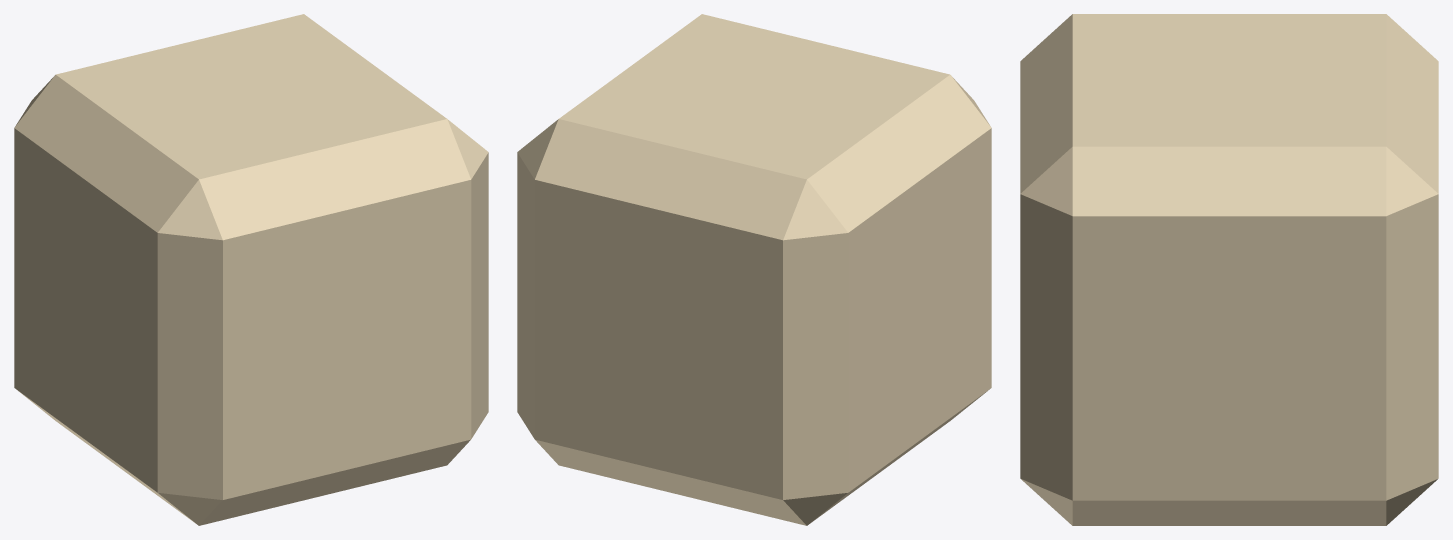
File: Cream.fbx
3 views of the same model, side by side, from view 1: azimuth 30°, elevation 25°; view 2: azimuth 150°, elevation 25°; view 3: azimuth 270°, elevation 25° (orthographic). The views are drawn at different scales.
Visible parts, largest first — view 1: Cream; view 2: Cream; view 3: Cream.
Boxes of the visible parts, bbox=[...] form: Cream: bbox=[14, 14, 488, 525]; Cream: bbox=[517, 14, 991, 525]; Cream: bbox=[1020, 14, 1438, 525].
Bounding box in the file's own units: 200 × 200 × 200.
